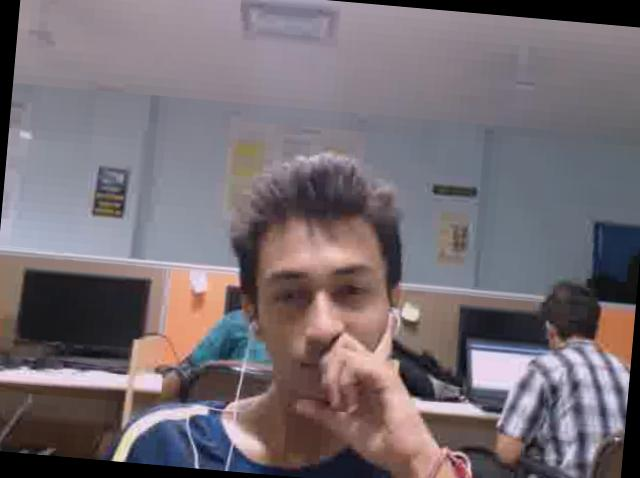bosan: (257, 214, 408, 408)
